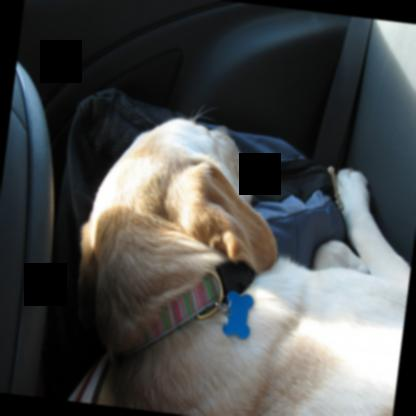backpack: (42, 91, 309, 357)
